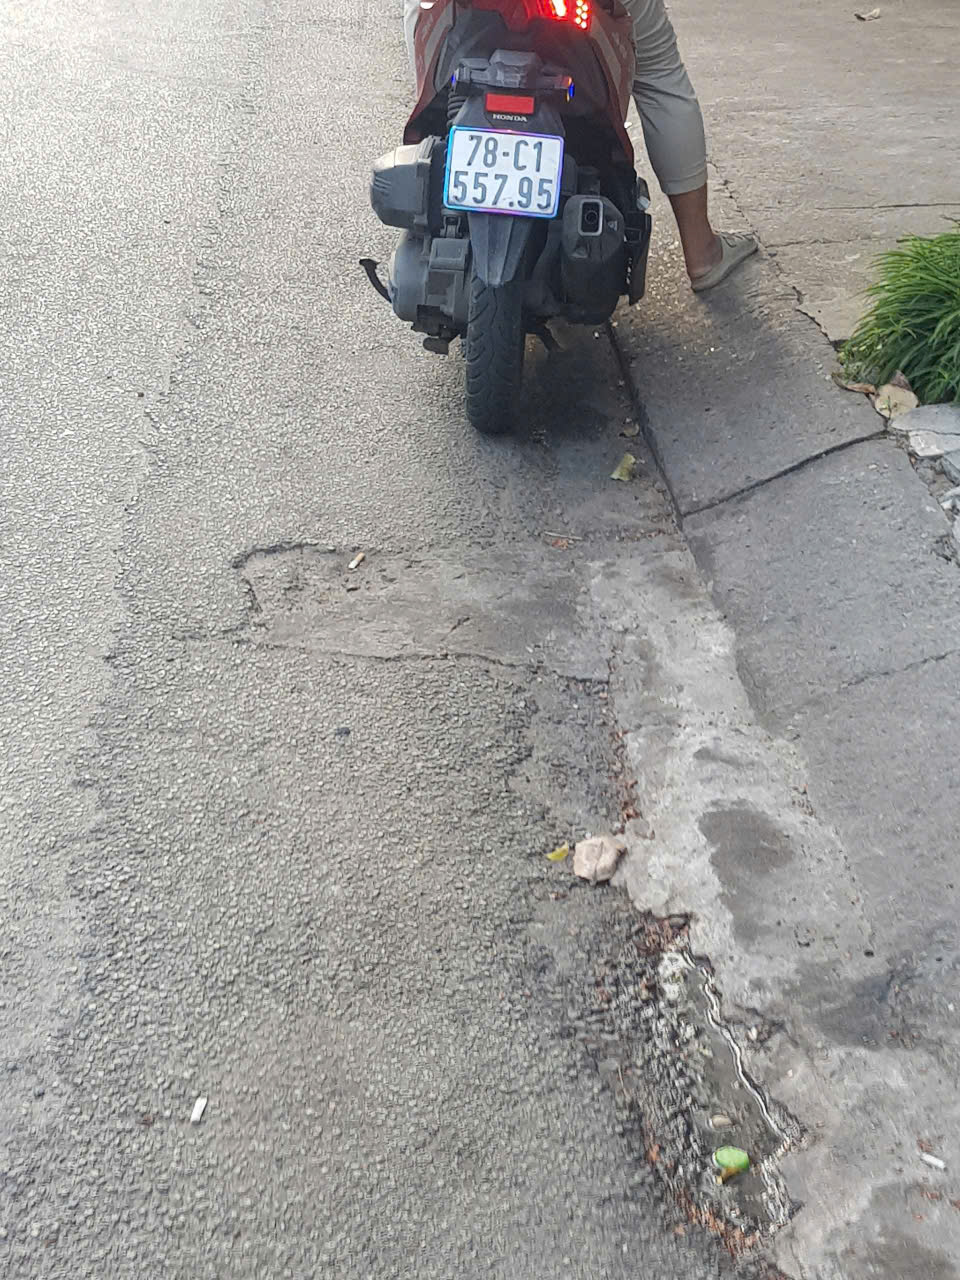bien_so: (446, 127, 563, 218)
